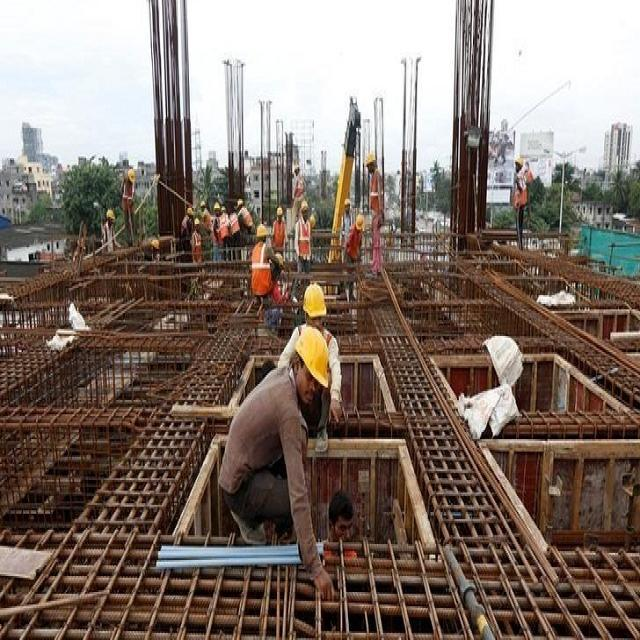Reflective-Jacket: (252, 240, 272, 296), (190, 228, 202, 258)
Safety-Helmet: (294, 326, 332, 388), (302, 280, 328, 319), (239, 207, 251, 228), (365, 148, 377, 166), (356, 212, 366, 232), (126, 168, 136, 185), (256, 223, 266, 238), (106, 207, 115, 221), (276, 205, 284, 218), (301, 199, 309, 212), (344, 197, 352, 209)
